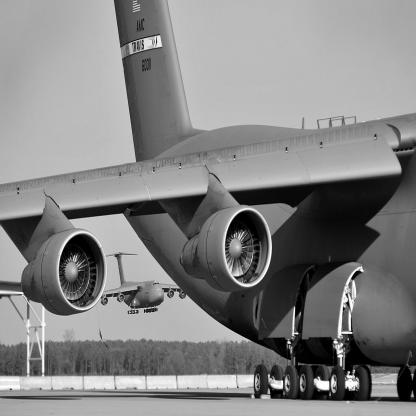C5: (1, 1, 416, 404), (102, 252, 188, 316)
